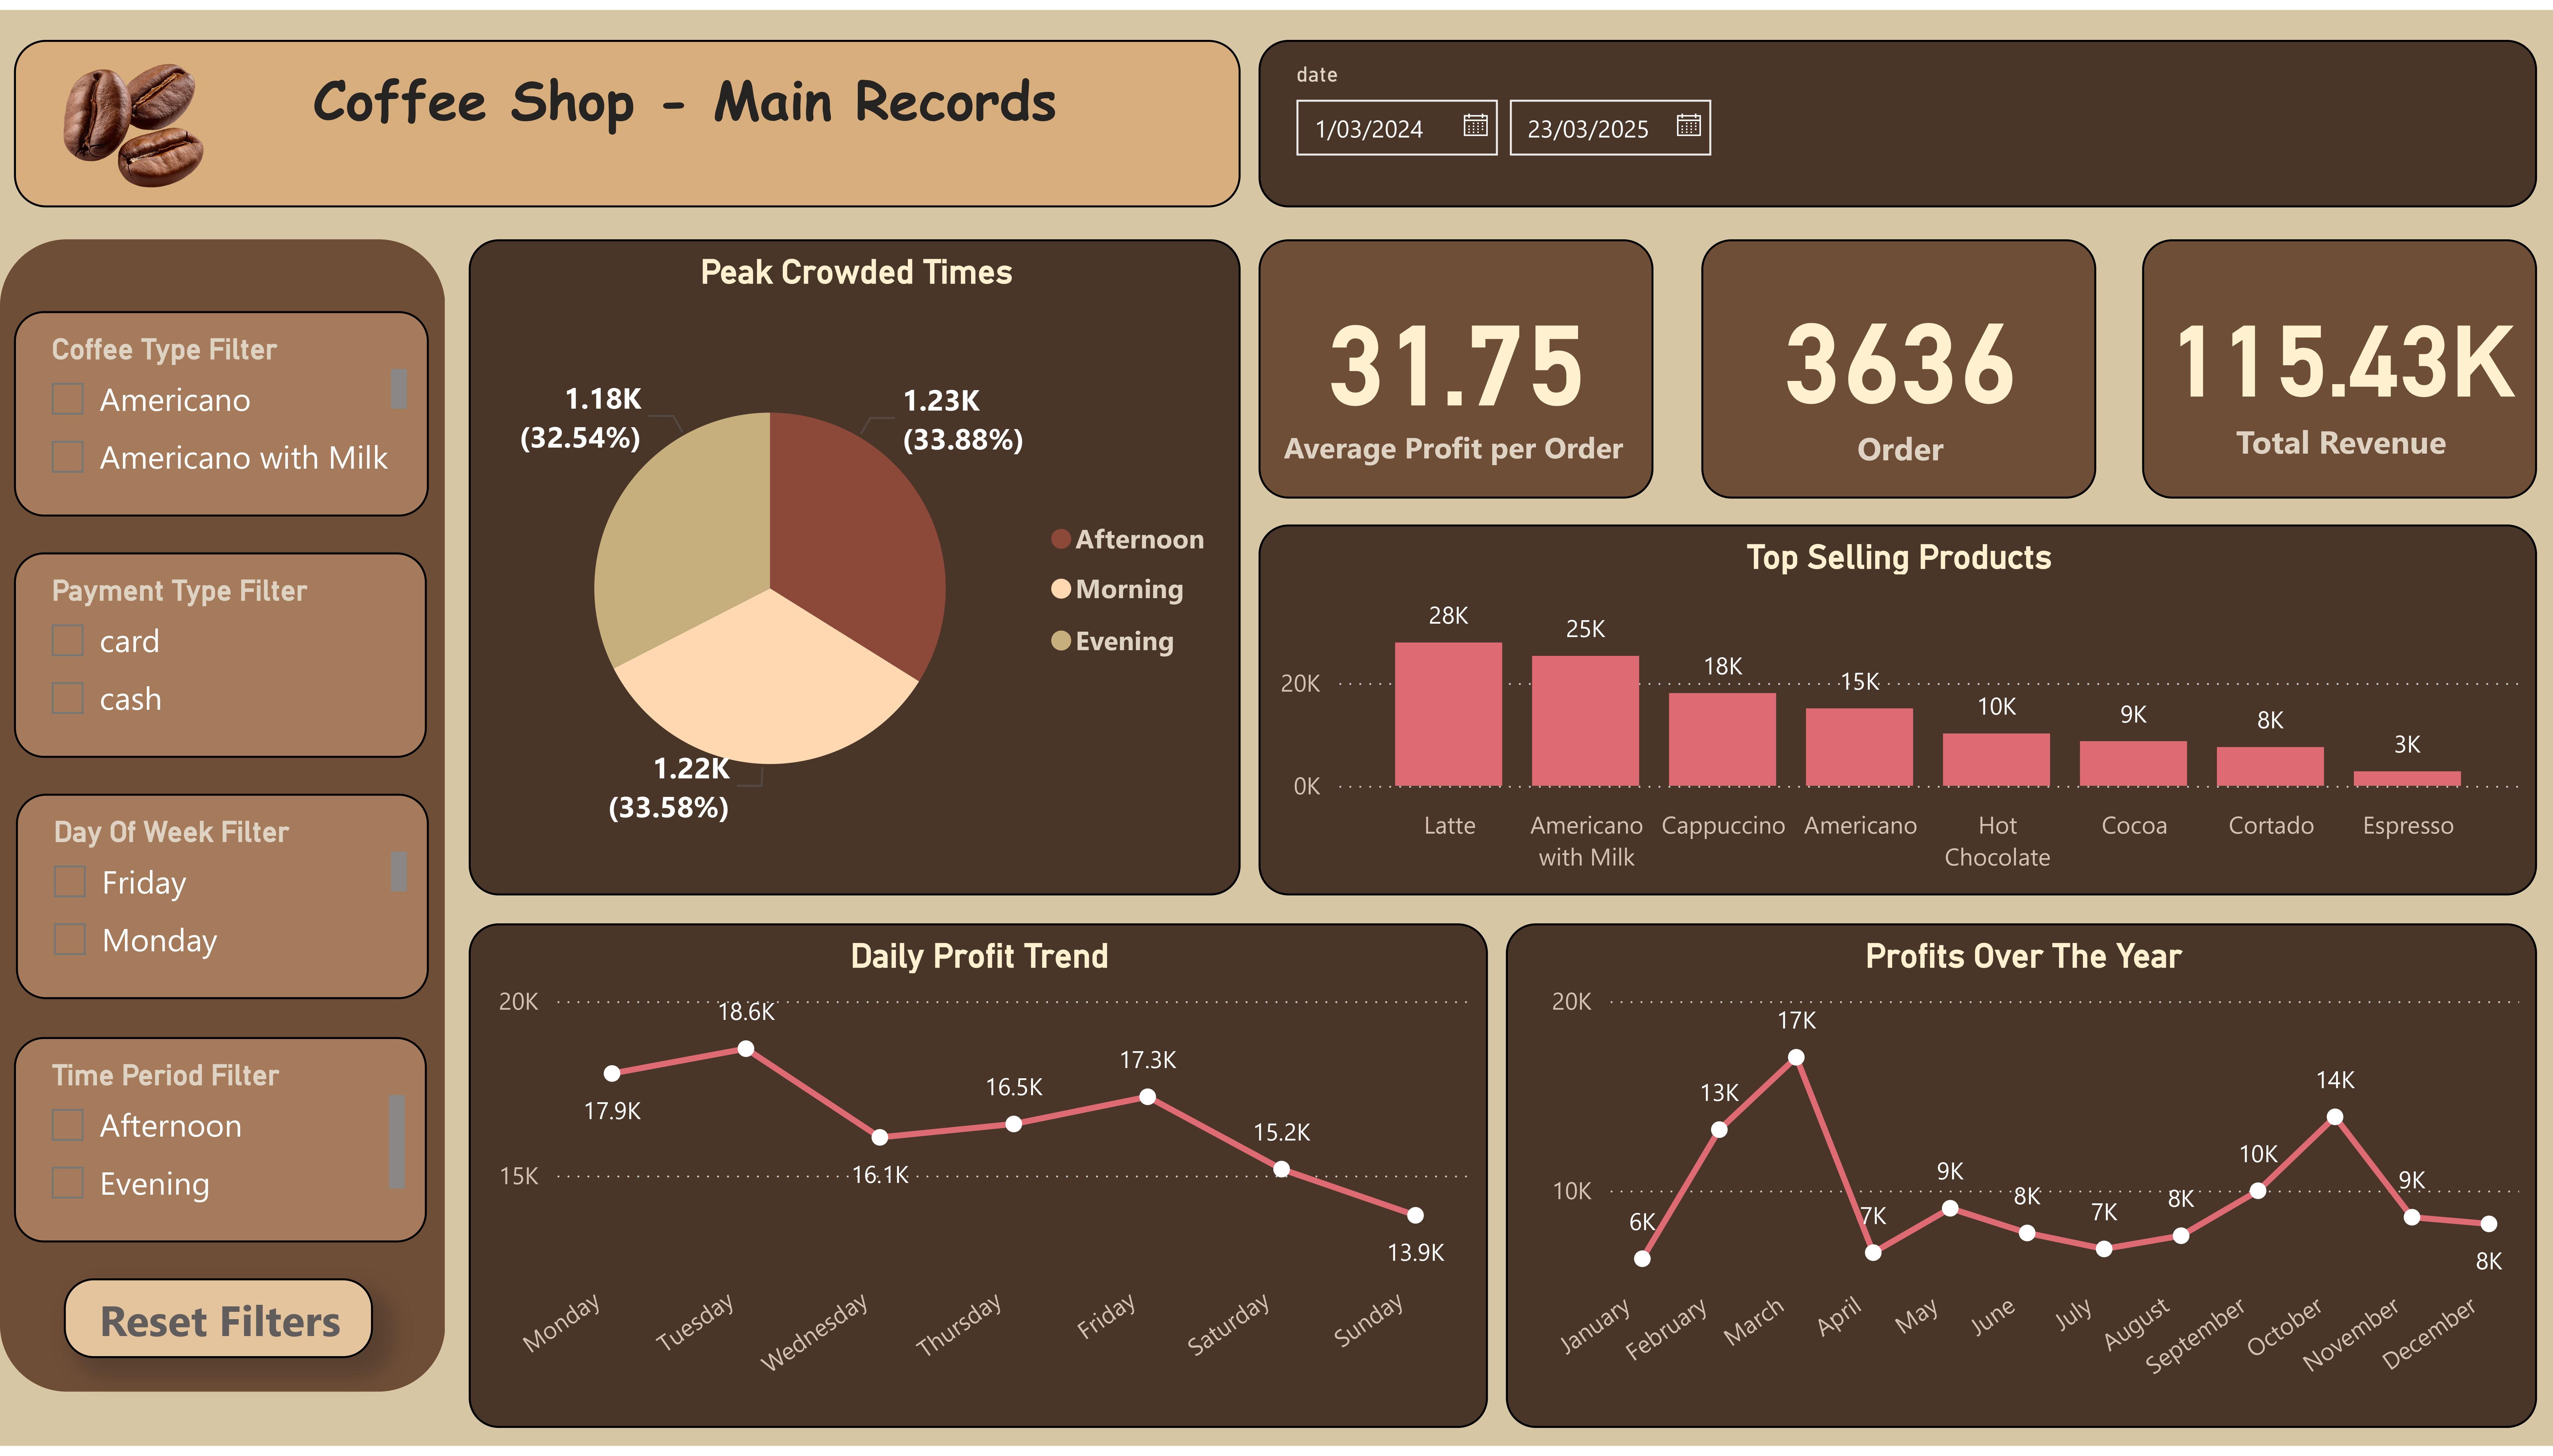

The dashboard page shown, as its layout file describes it:
{"tool":"powerbi","page":{"name":"Coffee Shop - Main Records","canvas":[1280,720],"ordinal":0},"visuals":[{"type":"shape","box":[0,115.1,223.2,577.8],"z":0},{"type":"lineChart","title":"Profits Over The Year","fields":{"Category":["Coffee_First_Branch.date.Variation.Date Hierarchy.Month"],"Y":["Sum(Coffee_First_Branch.money)"]},"box":[754.5,458.1,517.3,253.4],"z":1000},{"type":"columnChart","title":"Top Selling Products","fields":{"Category":["Coffee_First_Branch.coffee_name"],"Y":["Sum(Coffee_First_Branch.money)"]},"box":[631,258,640.6,186],"z":2000},{"type":"pieChart","title":"Peak Crowded Times","fields":{"Category":["Coffee_First_Branch.time_period"],"Y":["CountNonNull(Coffee_First_Branch.card)"]},"box":[234.8,115.1,387.1,329],"z":3000},{"type":"card","fields":{"Values":["Sum(Coffee_First_Branch.money)"]},"box":[1074.2,115.1,197.6,130.2],"z":4000},{"type":"slicer","fields":{"Values":["Coffee_First_Branch.date"]},"box":[631.3,15.1,640.6,83.7],"z":5000},{"type":"slicer","fields":{"Values":["Coffee_First_Branch.coffee_name"]},"box":[6.7,150.7,207.6,103],"z":6000},{"type":"slicer","fields":{"Values":["Coffee_First_Branch.day_of_week"]},"box":[8.1,393,206.9,103],"z":7000},{"type":"slicer","fields":{"Values":["Coffee_First_Branch.cash_type"]},"box":[7,272,206.9,103],"z":8000},{"type":"slicer","fields":{"Values":["Coffee_First_Branch.time_period"]},"box":[7,515,206.9,103],"z":9000},{"type":"card","fields":{"Values":["CountNonNull(Coffee_First_Branch.card)"]},"box":[853.3,115.1,197.6,130.2],"z":10000},{"type":"lineChart","title":"Daily Profit Trend","fields":{"Y":["Sum(Coffee_First_Branch.money)"],"Category":["Coffee_First_Branch.day_of_week"]},"box":[234.9,457.8,510.6,252.9],"z":11000},{"type":"card","fields":{"Values":["Avg(Coffee_First_Branch.money)"]},"box":[631.3,115.1,197.6,130.2],"z":12000},{"type":"textbox","box":[7,15.1,615,83.7],"z":13000},{"type":"image","box":[18.6,7,93,98.8],"z":14000},{"type":"actionButton","box":[32.4,636.4,154.6,39.6],"z":15000}]}

Visuals, with their boxes in screenshot pixels (x1, y1, x2, y2), scaled from the page's 1280x720 canvas onto the 2553x1456 screenshot:
shape: 0, 233, 445, 1401
"Profits Over The Year" lineChart: 1505, 926, 2537, 1439
"Top Selling Products" columnChart: 1259, 522, 2536, 898
"Peak Crowded Times" pieChart: 468, 233, 1240, 898
card - Sum(Coffee_First_Branch.money): 2143, 233, 2537, 496
slicer - Coffee_First_Branch.date: 1259, 31, 2537, 200
slicer - Coffee_First_Branch.coffee_name: 13, 305, 427, 513
slicer - Coffee_First_Branch.day_of_week: 16, 795, 429, 1003
slicer - Coffee_First_Branch.cash_type: 14, 550, 427, 758
slicer - Coffee_First_Branch.time_period: 14, 1042, 427, 1250
card - CountNonNull(Coffee_First_Branch.card): 1702, 233, 2096, 496
"Daily Profit Trend" lineChart: 468, 926, 1487, 1437
card - Avg(Coffee_First_Branch.money): 1259, 233, 1653, 496
textbox: 14, 31, 1241, 200
image: 37, 14, 223, 214
actionButton: 64, 1287, 373, 1367
